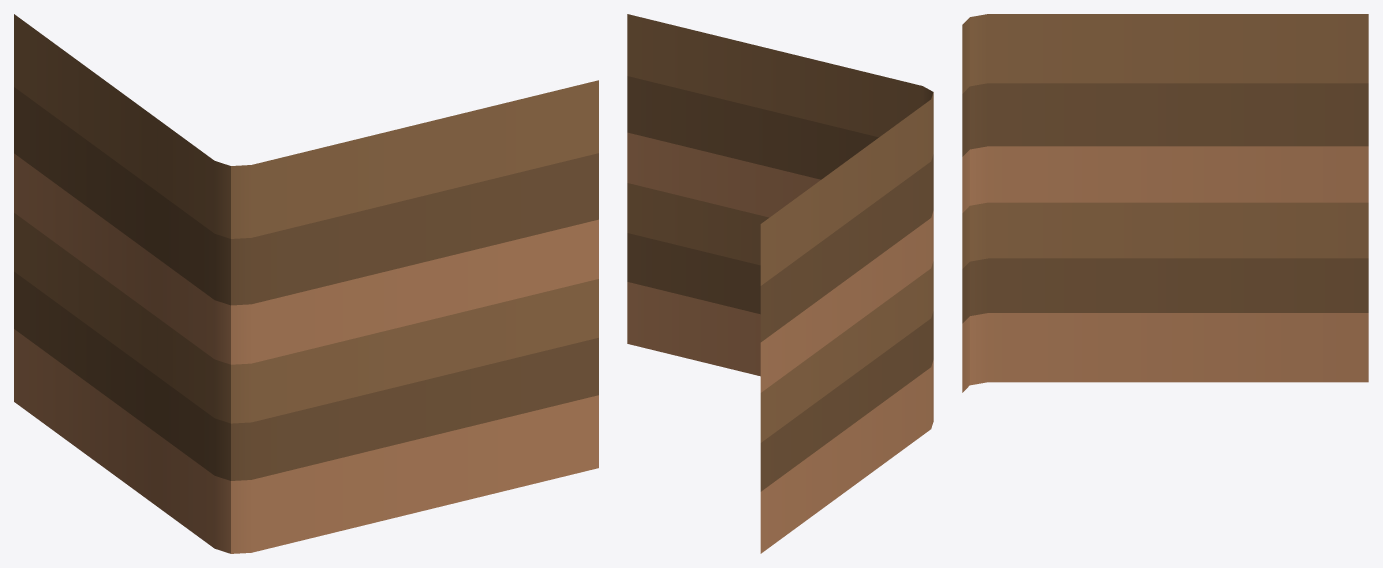
File: cube_grass_cornercenter_tall.glb
3 views of the same model, side by side, from view 1: azimuth 30°, elevation 25°; view 2: azimuth 150°, elevation 25°; view 3: azimuth 270°, elevation 25° (orthographic). The views are drawn at different scales.
Parts seen in each view (by area): view 1: Cube_Grass_CornerCenter_Tall; view 2: Cube_Grass_CornerCenter_Tall; view 3: Cube_Grass_CornerCenter_Tall.
Boxes of the visible parts, <box> form: Cube_Grass_CornerCenter_Tall: <box>14,14,598,553</box>; Cube_Grass_CornerCenter_Tall: <box>627,14,933,553</box>; Cube_Grass_CornerCenter_Tall: <box>962,14,1368,392</box>.
Size of the model in its own units: 2 by 2 by 2.
